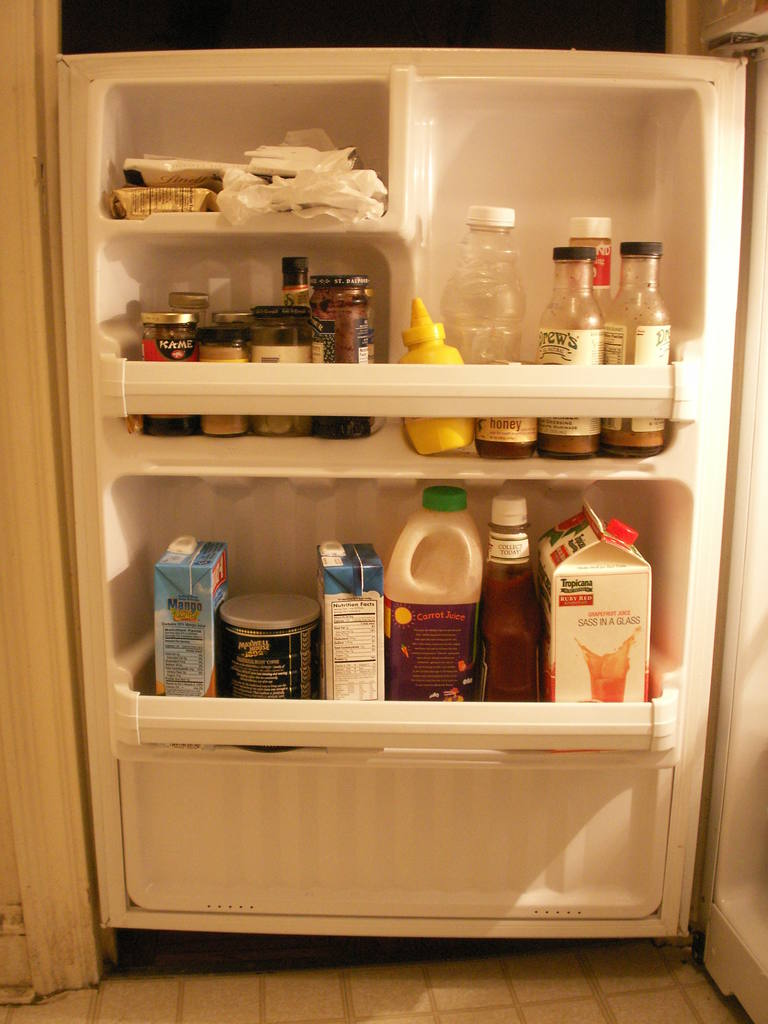refrigerator door: (71, 74, 700, 913)
